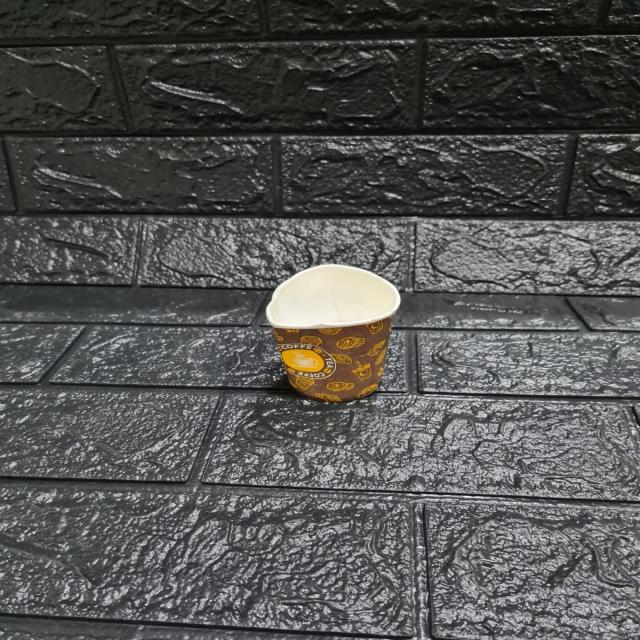cups: (249, 254, 419, 402)
